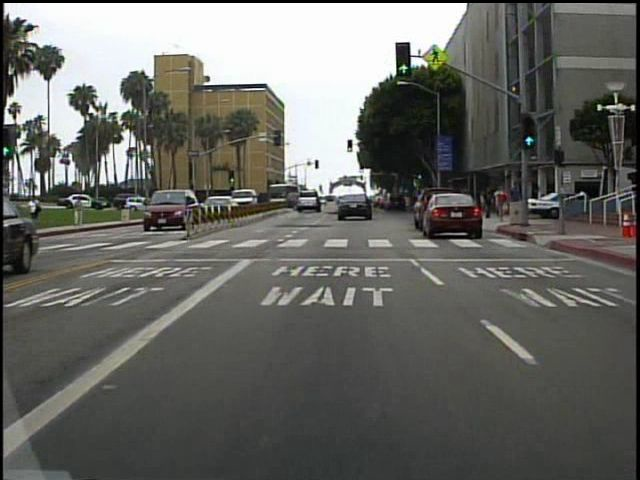person: (27, 193, 47, 224), (494, 185, 510, 223), (509, 180, 524, 219), (76, 193, 90, 228)
